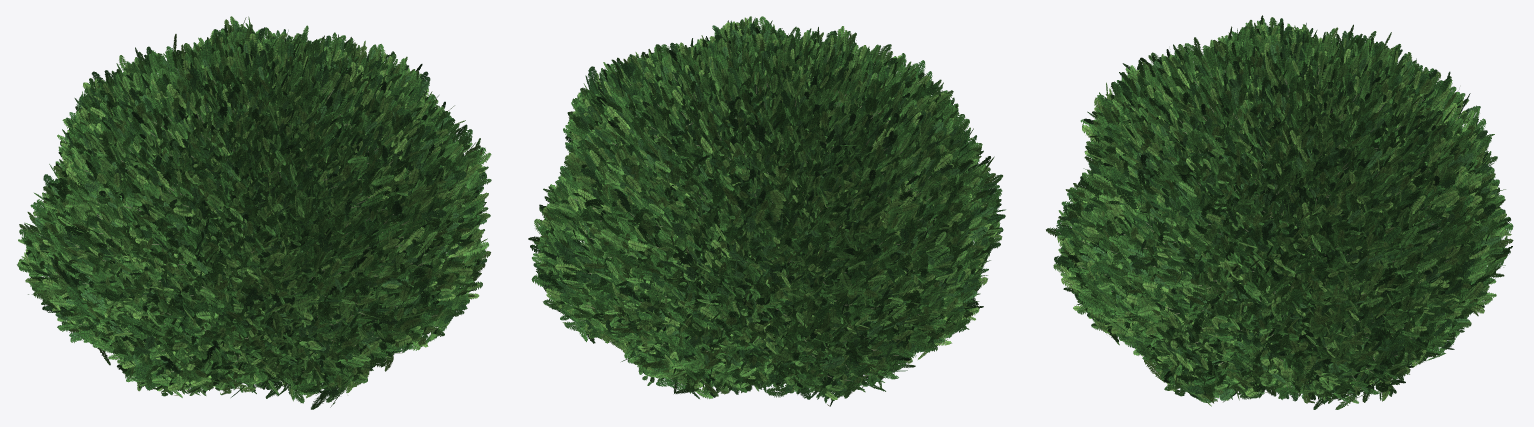
Rendered from thuja-danica-forma-original.glb.
3 views of the same model, side by side, from view 1: azimuth 30°, elevation 25°; view 2: azimuth 150°, elevation 25°; view 3: azimuth 270°, elevation 25° (orthographic).
Visible parts, largest first — view 1: THUJA_DANICA_MATURE-green, THUJA_DANICA_MATURE-moss, THUJA_DANICA_MATURE-fresh, THUJA_DANICA_MATURE-forest, THUJA_DANICA_MATURE-tips, THUJA_DANICA_MATURE-inner, THUJA_DANICA_MATURE-cool, THUJA_DANICA_NATURAL-green, THUJA_DANICA_NATURAL-fresh, THUJA_DANICA_NATURAL-moss, THUJA_DANICA_NATURAL-forest, THUJA_DANICA_NATURAL-tips (+3 smaller); view 2: THUJA_DANICA_MATURE-green, THUJA_DANICA_MATURE-moss, THUJA_DANICA_MATURE-fresh, THUJA_DANICA_MATURE-forest, THUJA_DANICA_MATURE-tips, THUJA_DANICA_MATURE-inner, THUJA_DANICA_MATURE-cool, THUJA_DANICA_NATURAL-green, THUJA_DANICA_NATURAL-moss, THUJA_DANICA_NATURAL-fresh, THUJA_DANICA_NATURAL-forest, THUJA_DANICA_NATURAL-tips (+4 smaller); view 3: THUJA_DANICA_MATURE-green, THUJA_DANICA_MATURE-moss, THUJA_DANICA_MATURE-fresh, THUJA_DANICA_MATURE-forest, THUJA_DANICA_MATURE-tips, THUJA_DANICA_MATURE-inner, THUJA_DANICA_MATURE-cool, THUJA_DANICA_NATURAL-green, THUJA_DANICA_NATURAL-moss, THUJA_DANICA_NATURAL-fresh, THUJA_DANICA_NATURAL-tips, THUJA_DANICA_NATURAL-forest (+4 smaller).
Part boxes in pixels (left/top/right/bottom): THUJA_DANICA_MATURE-green: left=17, top=20, right=491, bottom=409; THUJA_DANICA_MATURE-moss: left=19, top=23, right=488, bottom=399; THUJA_DANICA_MATURE-fresh: left=18, top=16, right=491, bottom=407; THUJA_DANICA_MATURE-forest: left=32, top=25, right=486, bottom=397; THUJA_DANICA_MATURE-tips: left=19, top=17, right=490, bottom=401; THUJA_DANICA_MATURE-inner: left=37, top=27, right=486, bottom=394; THUJA_DANICA_MATURE-cool: left=34, top=22, right=486, bottom=396; THUJA_DANICA_NATURAL-green: left=75, top=77, right=413, bottom=386; THUJA_DANICA_NATURAL-fresh: left=77, top=83, right=413, bottom=387; THUJA_DANICA_NATURAL-moss: left=77, top=74, right=423, bottom=390; THUJA_DANICA_NATURAL-forest: left=77, top=77, right=415, bottom=390; THUJA_DANICA_NATURAL-tips: left=84, top=84, right=416, bottom=386; THUJA_DANICA_MATURE-green: left=528, top=16, right=1002, bottom=398; THUJA_DANICA_MATURE-moss: left=531, top=17, right=1003, bottom=400; THUJA_DANICA_MATURE-fresh: left=534, top=16, right=1001, bottom=398; THUJA_DANICA_MATURE-forest: left=530, top=20, right=1005, bottom=403; THUJA_DANICA_MATURE-tips: left=537, top=17, right=1002, bottom=399; THUJA_DANICA_MATURE-inner: left=533, top=23, right=1005, bottom=397; THUJA_DANICA_MATURE-cool: left=539, top=22, right=996, bottom=406; THUJA_DANICA_NATURAL-green: left=592, top=70, right=932, bottom=386; THUJA_DANICA_NATURAL-moss: left=587, top=79, right=931, bottom=388; THUJA_DANICA_NATURAL-fresh: left=582, top=74, right=939, bottom=385; THUJA_DANICA_NATURAL-forest: left=585, top=74, right=927, bottom=384; THUJA_DANICA_NATURAL-tips: left=582, top=82, right=934, bottom=387; THUJA_DANICA_MATURE-green: left=1058, top=17, right=1507, bottom=409; THUJA_DANICA_MATURE-moss: left=1060, top=15, right=1513, bottom=401; THUJA_DANICA_MATURE-fresh: left=1046, top=20, right=1507, bottom=409; THUJA_DANICA_MATURE-forest: left=1054, top=21, right=1508, bottom=404; THUJA_DANICA_MATURE-tips: left=1057, top=19, right=1513, bottom=406; THUJA_DANICA_MATURE-inner: left=1067, top=18, right=1502, bottom=398; THUJA_DANICA_MATURE-cool: left=1055, top=27, right=1503, bottom=402; THUJA_DANICA_NATURAL-green: left=1102, top=80, right=1441, bottom=394; THUJA_DANICA_NATURAL-moss: left=1105, top=77, right=1433, bottom=386; THUJA_DANICA_NATURAL-fresh: left=1110, top=78, right=1440, bottom=386; THUJA_DANICA_NATURAL-tips: left=1104, top=76, right=1441, bottom=385; THUJA_DANICA_NATURAL-forest: left=1098, top=81, right=1436, bottom=374.
Bounding box in the file's own units: 1.47 × 1.05 × 1.44.
Materials: 9 (7 with a texture image).
